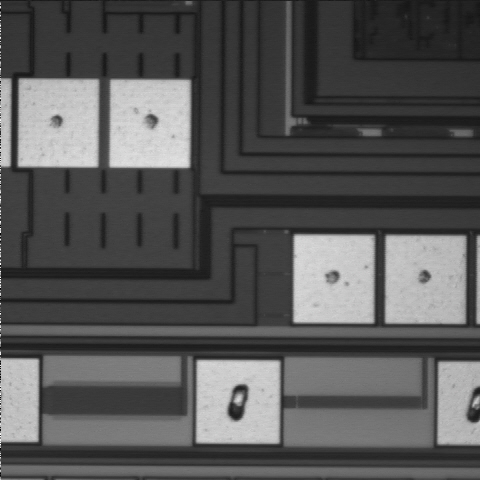pad: (110, 80, 190, 168), (294, 235, 374, 323), (18, 80, 98, 167), (197, 360, 279, 443), (386, 236, 464, 323)
